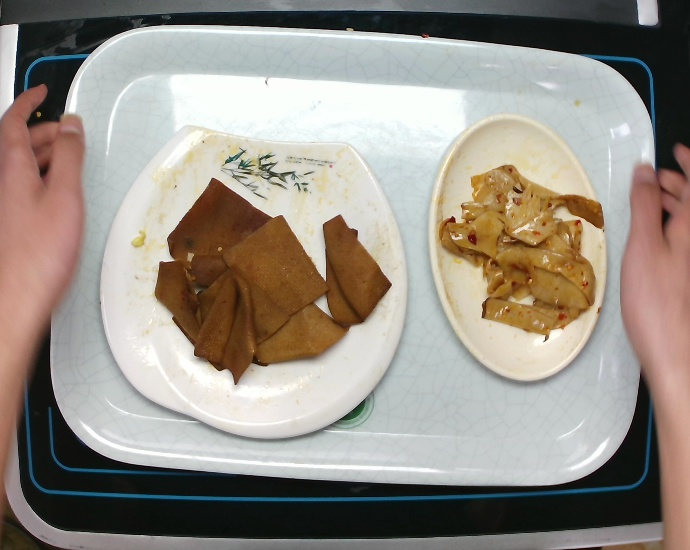JYsf-Mian_Pan: (93, 122, 411, 442)
JYsf-Tuo_Yuan_Wan: (423, 111, 612, 386)
